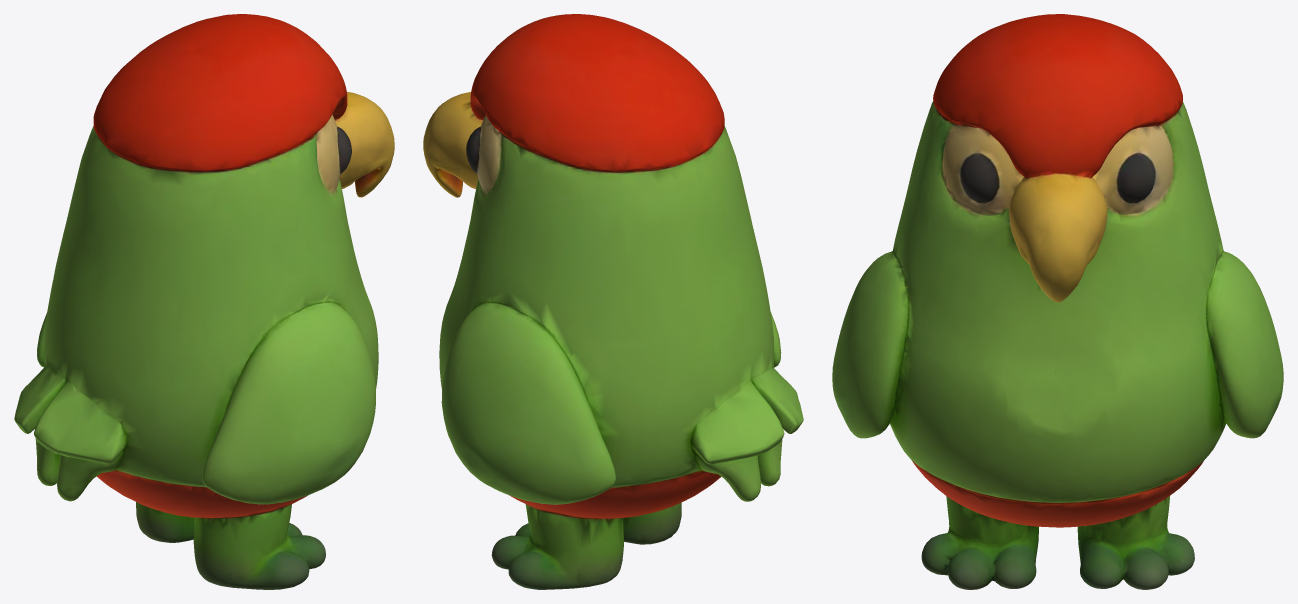
File: parrot.glb
3 views of the same model, side by side, from view 1: azimuth 30°, elevation 25°; view 2: azimuth 150°, elevation 25°; view 3: azimuth 270°, elevation 25° (orthographic). The views are drawn at different scales.
Parts seen in each view (by area): view 1: tripo_node_30a3b43b-28b5-4b71-b463-f042bb3cf918; view 2: tripo_node_30a3b43b-28b5-4b71-b463-f042bb3cf918; view 3: tripo_node_30a3b43b-28b5-4b71-b463-f042bb3cf918.
Part boxes in pixels (left/top/right/bottom): tripo_node_30a3b43b-28b5-4b71-b463-f042bb3cf918: left=14, top=14, right=394, bottom=589; tripo_node_30a3b43b-28b5-4b71-b463-f042bb3cf918: left=423, top=14, right=803, bottom=589; tripo_node_30a3b43b-28b5-4b71-b463-f042bb3cf918: left=832, top=14, right=1283, bottom=589.
Size of the model in its own units: 0.7316 by 0.9996 by 0.7448.
1 material, 1 textured.
